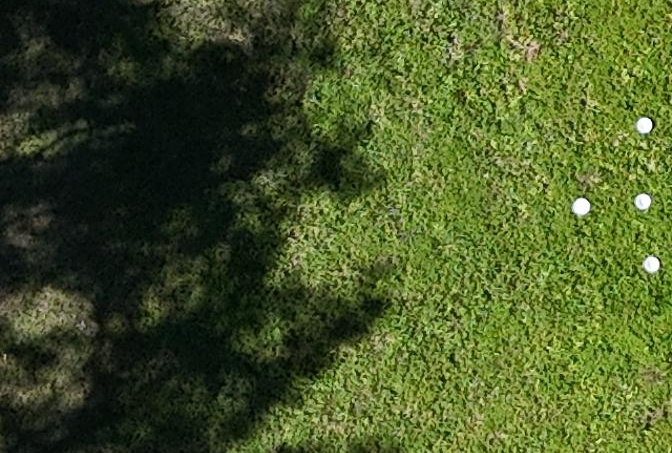bowl: (572, 198, 591, 216), (634, 193, 651, 210), (643, 256, 660, 273), (636, 117, 652, 134)
